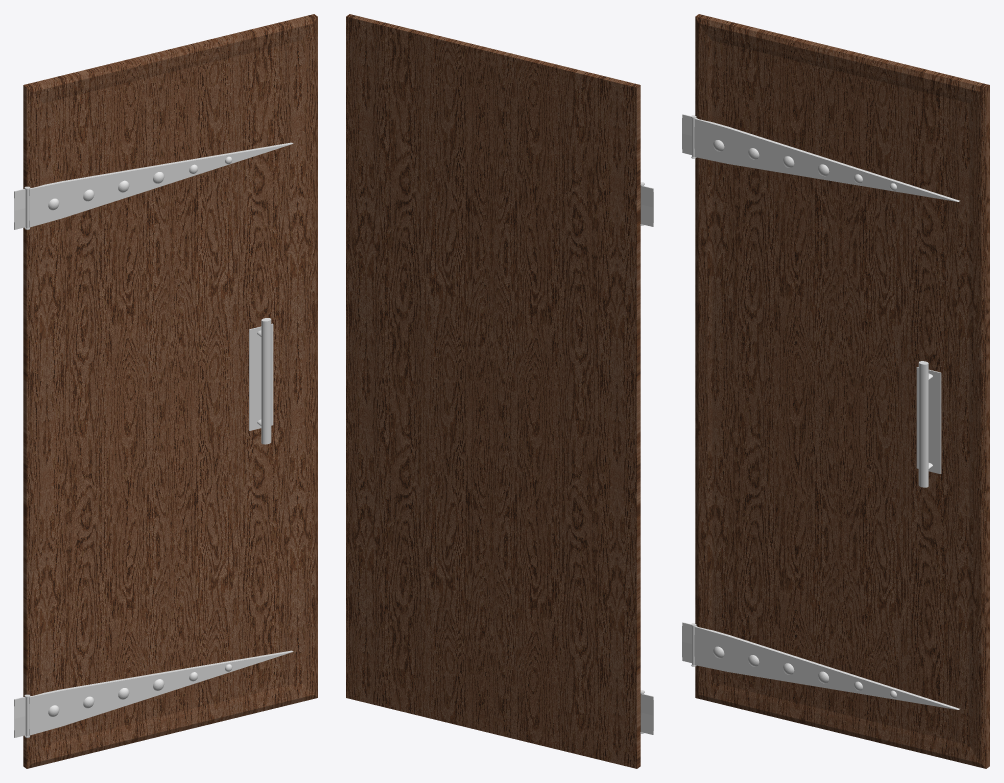
Rendered from porta_direita_armario.fbx.
3 views of the same model, side by side, from view 1: azimuth 30°, elevation 25°; view 2: azimuth 150°, elevation 25°; view 3: azimuth 330°, elevation 25° (orthographic).
Visible parts, largest first — view 1: porta_esquerda_armario; view 2: porta_esquerda_armario; view 3: porta_esquerda_armario.
Part boxes in pixels (box(x1,y1,x2,y2)): porta_esquerda_armario: box(14, 14, 317, 768); porta_esquerda_armario: box(346, 14, 653, 768); porta_esquerda_armario: box(682, 14, 989, 768).
Size of the model in its own units: 88.19 by 189 by 5.56.
2 materials, 1 textured.
